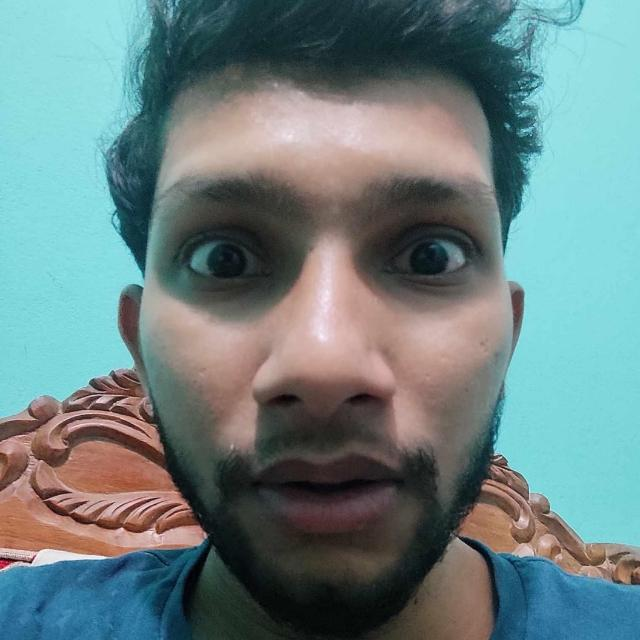Happy: (115, 95, 539, 624)
